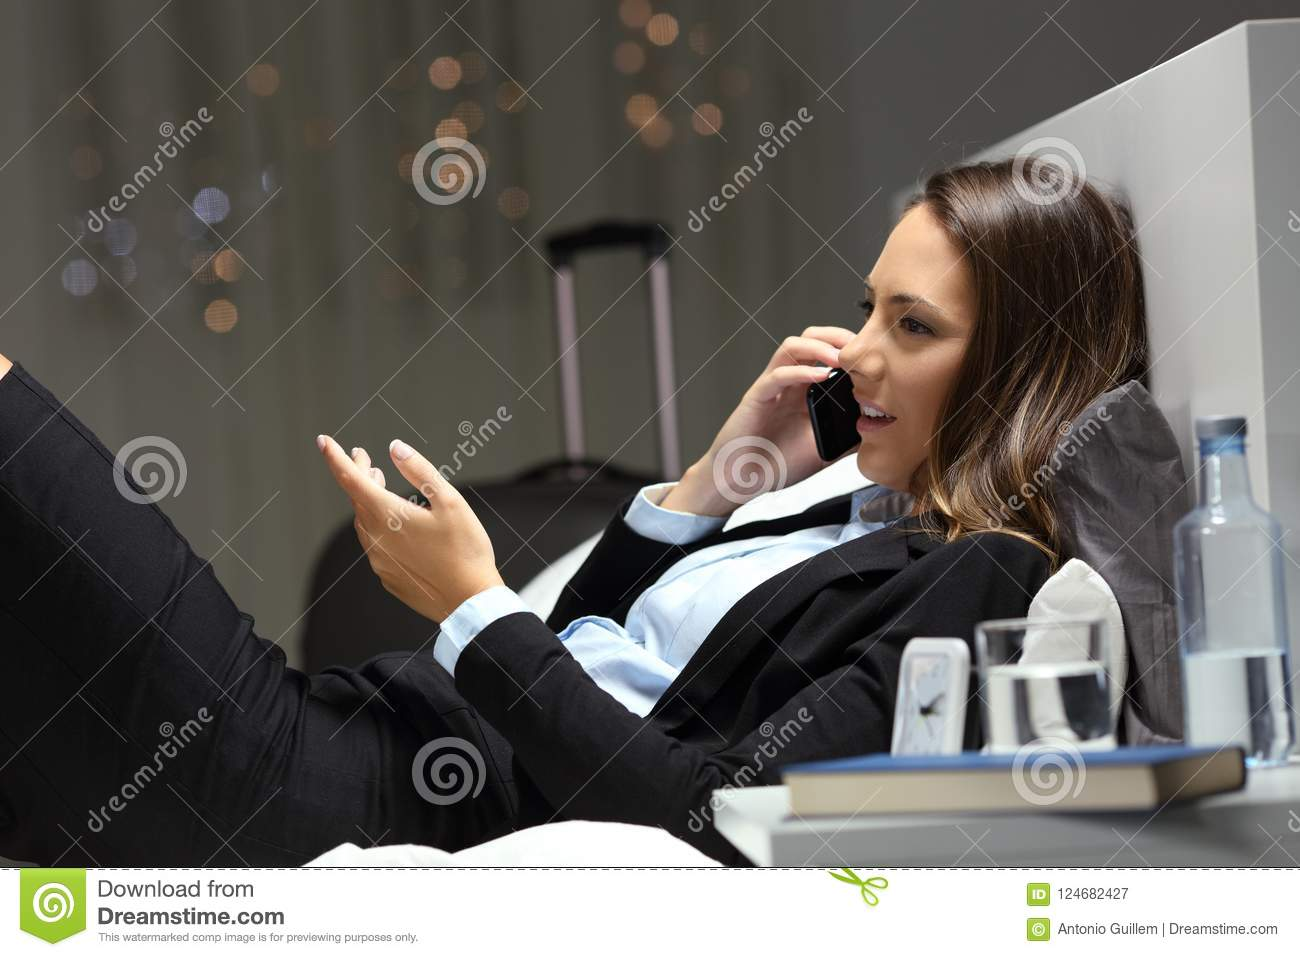phone: (805, 360, 859, 465)
talk: (715, 269, 974, 488)
